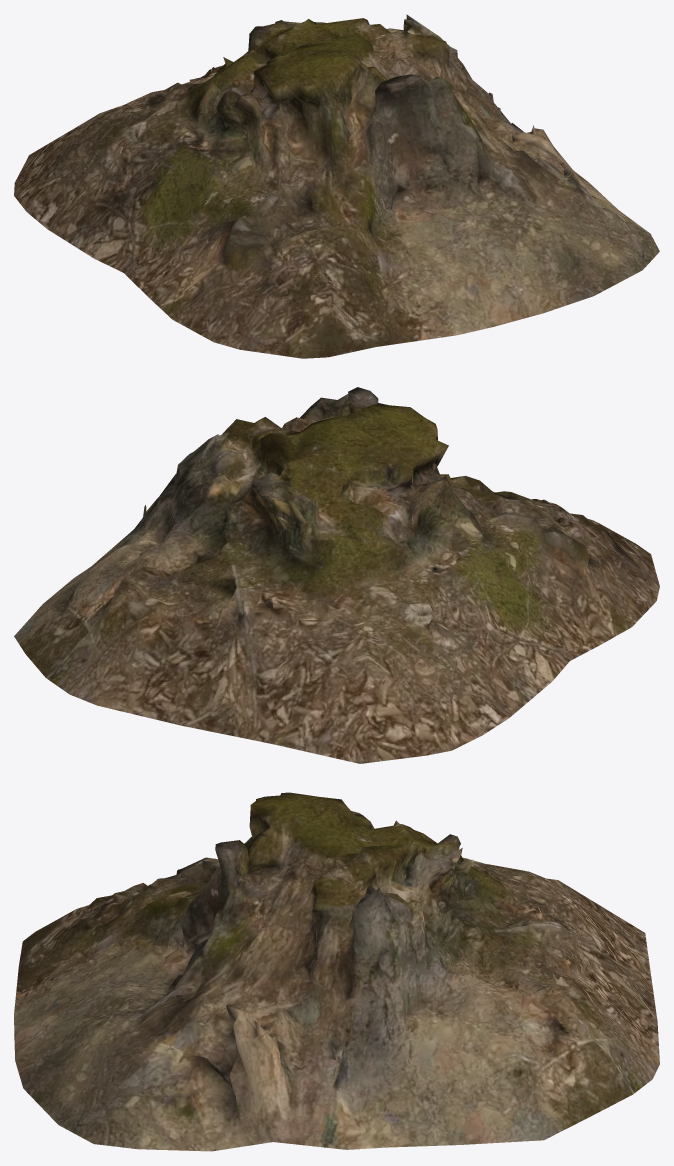
File: stump.glb
3 renders of one model, top to bottom at view 1: azimuth 30°, elevation 25°; view 2: azimuth 150°, elevation 25°; view 3: azimuth 270°, elevation 25°, orthographic. The views are drawn at different scales.
Visible parts, largest first — view 1: tree_stump_01; view 2: tree_stump_01; view 3: tree_stump_01.
Boxes of the visible parts, box(x1,y1,x2,y2) form: tree_stump_01: box(14, 14, 659, 358); tree_stump_01: box(14, 387, 659, 763); tree_stump_01: box(14, 792, 659, 1151).
Bounding box in the file's own units: 1.34 × 0.5376 × 1.5.
1 material, 1 textured.
